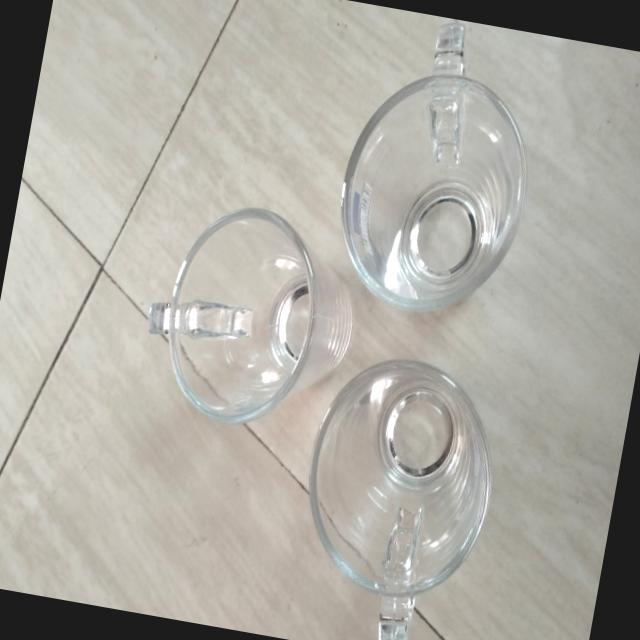glass-VX4N: (324, 6, 552, 328), (279, 348, 512, 640), (130, 192, 368, 440)
